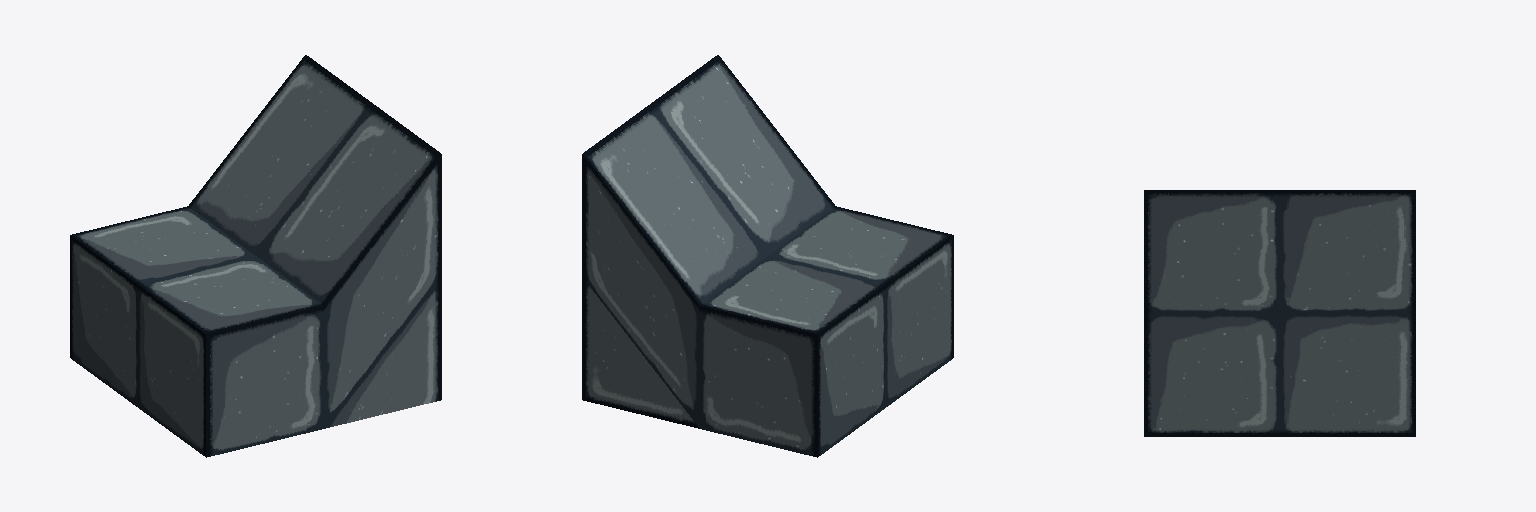
The picture shows the model from 3 angles: view 1: azimuth 30°, elevation 25°; view 2: azimuth 150°, elevation 25°; view 3: azimuth 270°, elevation 25°; orthographic projection.
Parts seen in each view (by area): view 1: 7_stone; view 2: 7_stone; view 3: 7_stone.
Part boxes in pixels (left/top/right/bottom): 7_stone: left=70, top=55, right=441, bottom=457; 7_stone: left=582, top=55, right=953, bottom=457; 7_stone: left=1144, top=190, right=1415, bottom=436.
Size of the model in its own units: 1 by 1 by 1.
Materials: 1 (1 with a texture image).